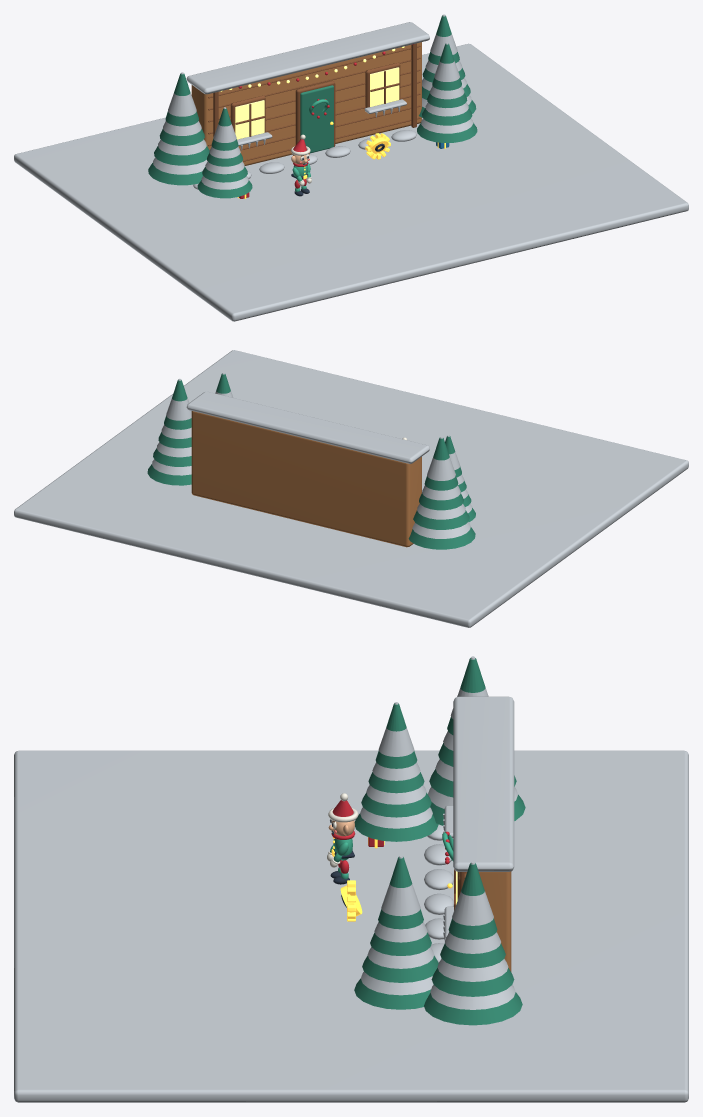
Rendered from chapter-01.glb.
The picture shows the model from 3 angles, top to bottom: view 1: azimuth 30°, elevation 25°; view 2: azimuth 150°, elevation 25°; view 3: azimuth 270°, elevation 25°; orthographic projection. The views are drawn at different scales.
Visible parts, largest first — view 1: Schneeboden, Werkstatt, Schneegesims, Wichteltür, Warmes Fenster, Warmes Fenster.001, Tannenzweig.004, Tannenzweig.008, Tannenzweig.009, Türrahmen, Tannenzweig.011, Schnee.011 (+7 smaller); view 2: Schneeboden, Werkstatt, Schneegesims, Tannenzweig.008, Tannenzweig.009, Tannenzweig.011, Schnee.008, Schnee.011, Tannenzweig.015, Tannenzweig.012, Tannenzweig.010, Schnee.009 (+1 smaller); view 3: Schneeboden, Schneegesims, Werkstatt, Tannenzweig.012, Tannenzweig.013, Tannenzweig.015, Tannenzweig, Schnee.012, Tannenzweig.005, Tannenzweig.004, Schnee.015, Tannenzweig.007 (+15 smaller).
Part boxes in pixels (x1,y1,x2,y2): Schneeboden: (14, 43, 688, 321); Werkstatt: (191, 42, 421, 165); Schneegesims: (186, 22, 429, 94); Wichteltür: (300, 85, 333, 153); Warmes Fenster: (235, 100, 264, 139); Warmes Fenster.001: (370, 67, 399, 106); Tannenzweig.004: (417, 122, 477, 142); Tannenzweig.008: (148, 163, 202, 185); Tannenzweig.009: (154, 146, 209, 165); Türrahmen: (295, 81, 335, 146); Tannenzweig.011: (165, 73, 198, 126); Schnee.011: (168, 72, 196, 116); Schneeboden: (14, 350, 688, 627); Werkstatt: (191, 411, 421, 547); Schneegesims: (186, 391, 429, 463); Tannenzweig.008: (408, 527, 475, 549); Tannenzweig.009: (413, 510, 469, 529); Tannenzweig.011: (424, 437, 458, 490); Schnee.008: (412, 522, 470, 538); Schnee.011: (427, 436, 455, 480); Tannenzweig.015: (164, 380, 191, 429); Tannenzweig.012: (147, 464, 191, 485); Tannenzweig.010: (419, 493, 463, 510); Schnee.009: (417, 504, 465, 519); Schneeboden: (14, 750, 688, 1102); Schneegesims: (453, 696, 514, 871); Werkstatt: (466, 871, 511, 971); Tannenzweig.012: (424, 992, 522, 1025); Tannenzweig.013: (431, 968, 514, 996); Tannenzweig.015: (448, 863, 497, 939); Tannenzweig: (354, 813, 438, 841); Schnee.012: (430, 985, 515, 1009); Tannenzweig.005: (362, 955, 438, 982); Tannenzweig.004: (354, 978, 430, 1009); Schnee.015: (452, 861, 493, 925); Tannenzweig.007: (378, 857, 423, 929).
Bounding box in the file's own units: 18 × 4.39 × 15.
